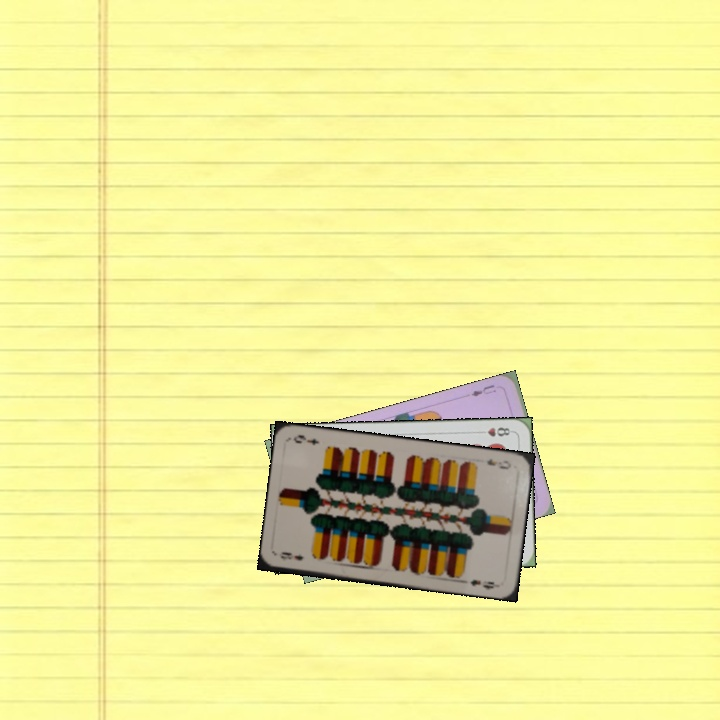E9: (483, 455, 513, 472), (277, 548, 306, 563)
EU: (467, 380, 499, 399)
H8: (475, 423, 515, 439)
